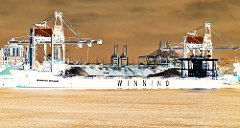bulk carrier: (11, 28, 227, 92)
